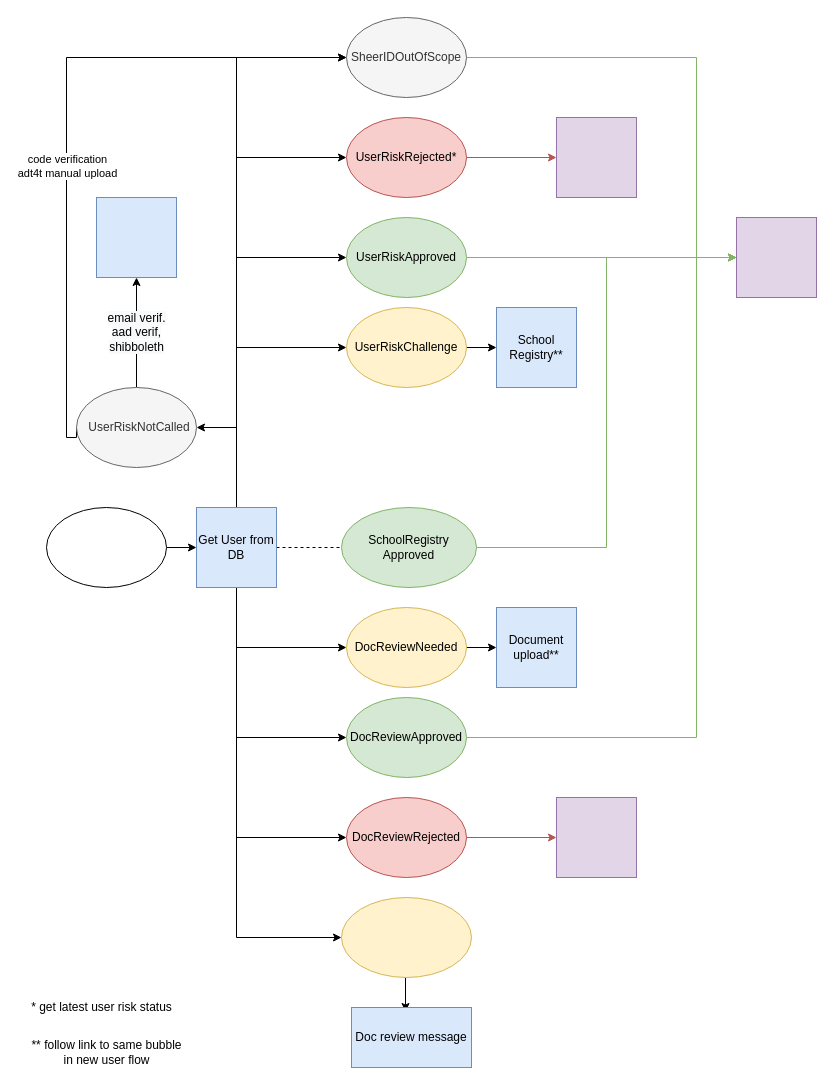
Image size: 834x1085. Some labels were removed from this diagram. Here are the shapes that lost their labels. From the top down, the centre of each, then its label:
At (596,157): "risk reject".
At (136,237): "User Risk**".
At (776,257): "proceed to signup".
At (106,547): "Returning user".
At (596,837): "doc review failed".
At (406,937): "DocReview InProgress".
